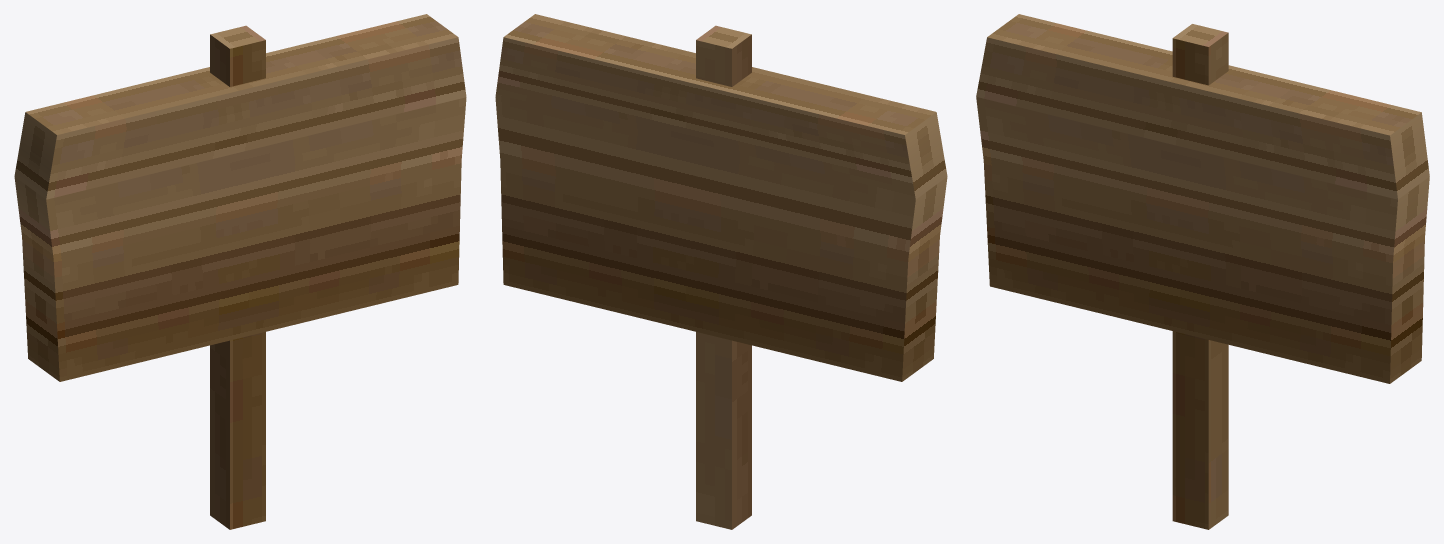
The model's file is sign3d.glb.
The picture shows the model from 3 angles, left to right: view 1: azimuth 30°, elevation 25°; view 2: azimuth 150°, elevation 25°; view 3: azimuth 330°, elevation 25°; orthographic projection.
Visible parts, largest first — view 1: vsn_mesh_0_com_bm_murekanban; view 2: vsn_mesh_0_com_bm_murekanban; view 3: vsn_mesh_0_com_bm_murekanban.
Part boxes in pixels (x1,y1,x2,y2): vsn_mesh_0_com_bm_murekanban: (14, 14, 466, 529); vsn_mesh_0_com_bm_murekanban: (495, 14, 947, 529); vsn_mesh_0_com_bm_murekanban: (976, 14, 1429, 529).
Bounding box in the file's own units: 31.11 × 34.03 × 4.07.
1 material, 1 textured.
